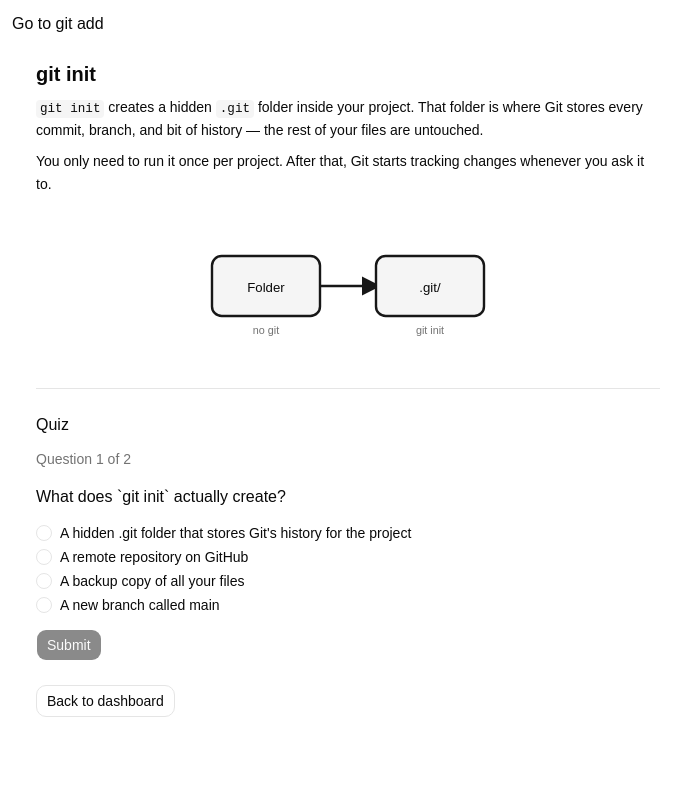
Test: TopicPage › resets quiz state when navigating from one topic to another via a param-only route change
Expected: the heading "git init" is shown, [36,63,96,85]
Expected: the text "Question 1 of 2" is shown, [36,451,131,467]
# Answer Q1 and advance to Q2, mid-quiz, without finishing.
Click the 1st radio button at (44, 533), box [36,525,52,541]
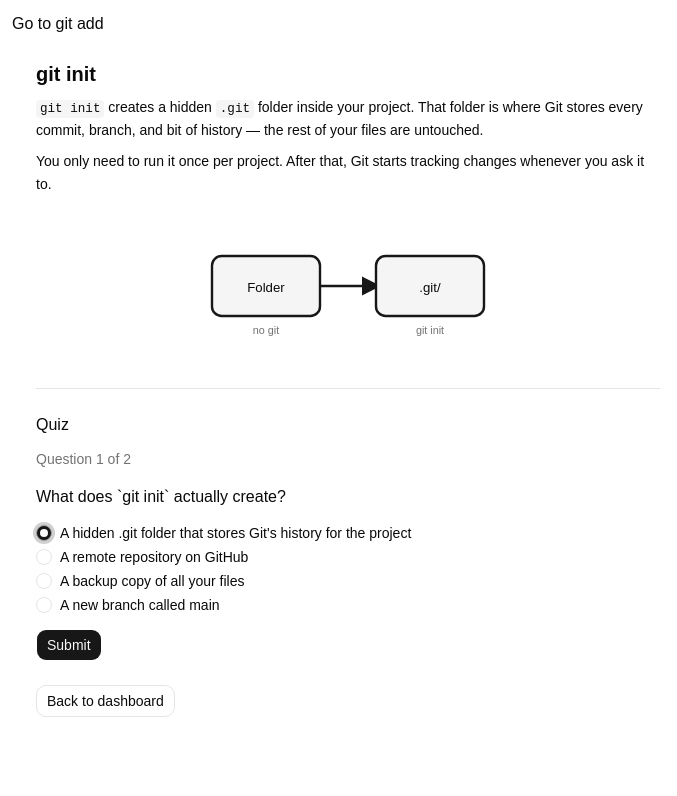
Click the button "Submit" at (69, 645), box [36,629,102,661]
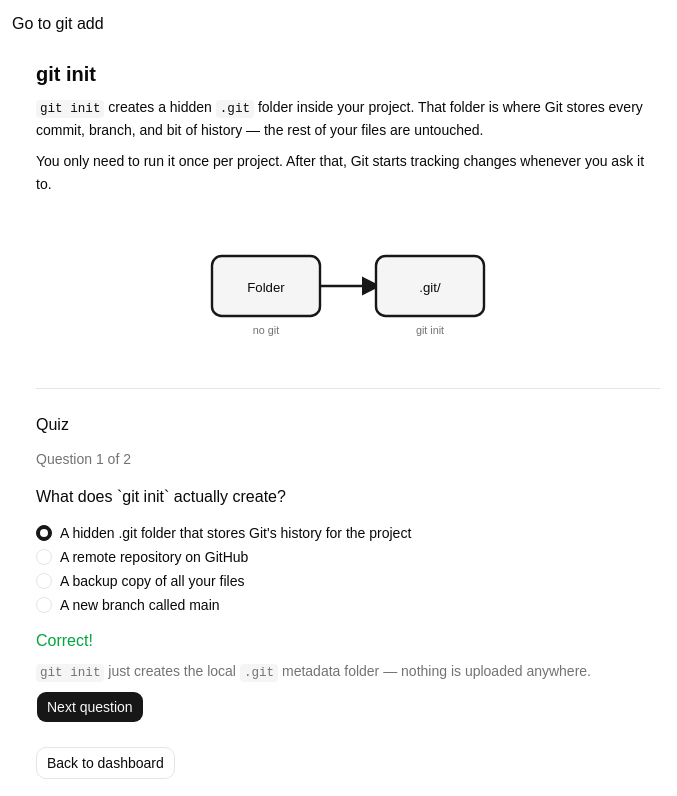
Click the button "Next question" at (90, 707), box [36,691,144,723]
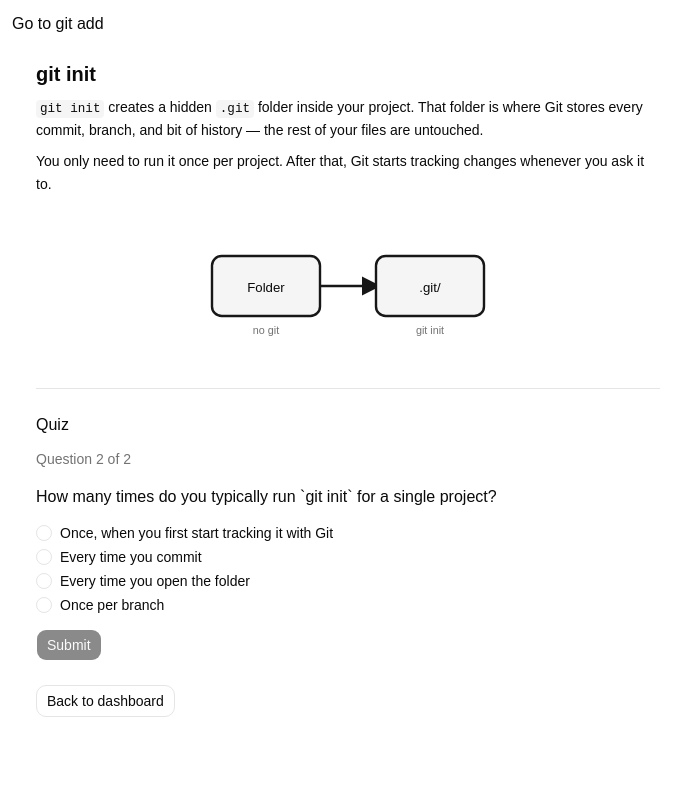
Now the text "Question 2 of 2" is shown, box [36,451,131,467]
# Navigate to a different topic via a param-only route change (same route element).
Click the link "Go to git add" at (58, 24), box [12,15,104,32]
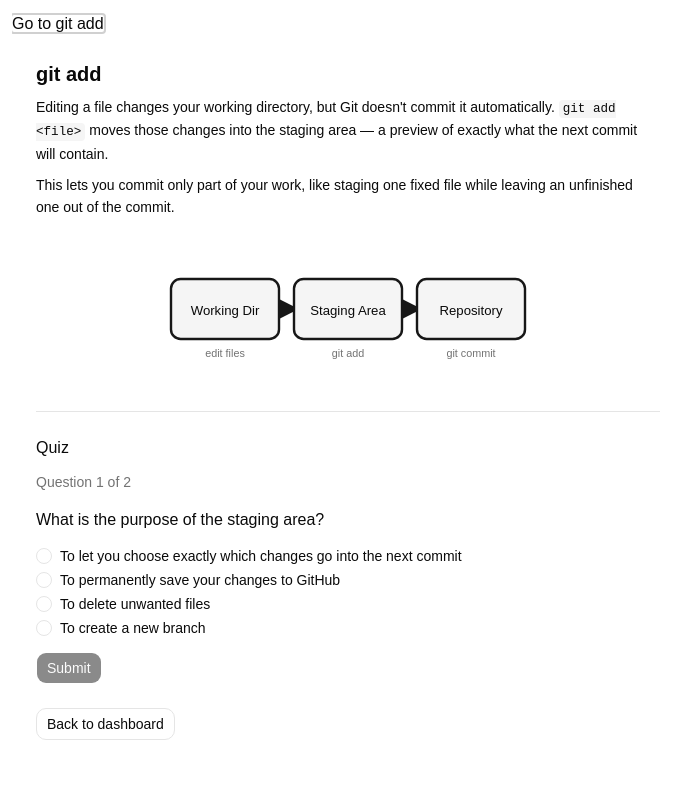
Now the heading "git add" is shown, box [36,63,102,85]
Now the text "Question 1 of 2" is shown, box [36,474,131,490]
